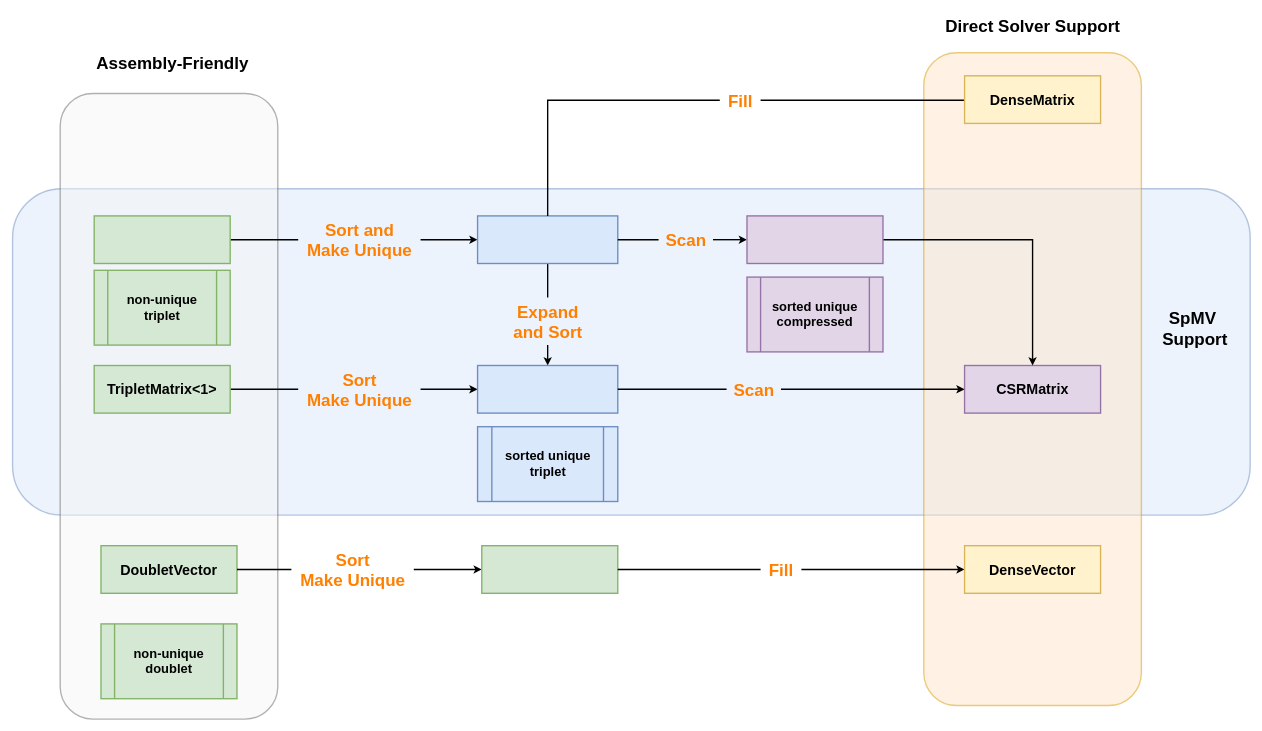
The diagram is 1262 pixels wide and 731 high, and some of its shapes have lost their labels. Each missing label, with the box of its shape:
BCOOMatrix: (477, 215, 618, 264)
BCOOVector: (481, 545, 618, 594)
BSRMatrix: (746, 215, 883, 264)
COOMatrix: (477, 364, 618, 413)
TripletMatrix<N>: (93, 215, 231, 264)
